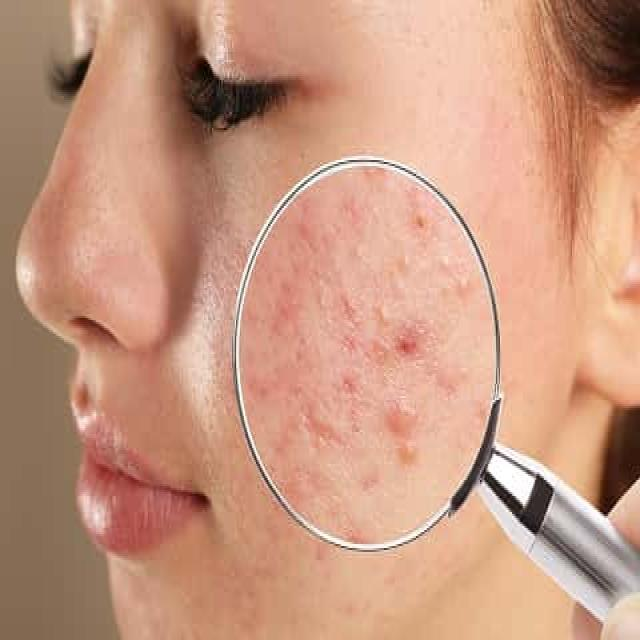Acne: (237, 166, 499, 537)
Oily-Skin: (153, 168, 265, 443)
